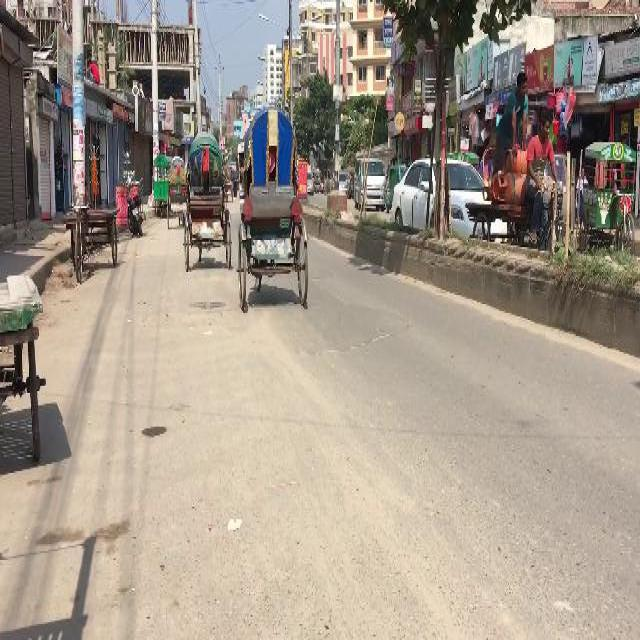car: (390, 156, 484, 233), (307, 169, 313, 192)
motorcycle: (236, 107, 309, 309), (182, 130, 230, 270), (166, 153, 186, 226), (126, 194, 144, 236), (385, 166, 397, 212), (223, 164, 232, 199)
truck: (353, 156, 384, 208)
